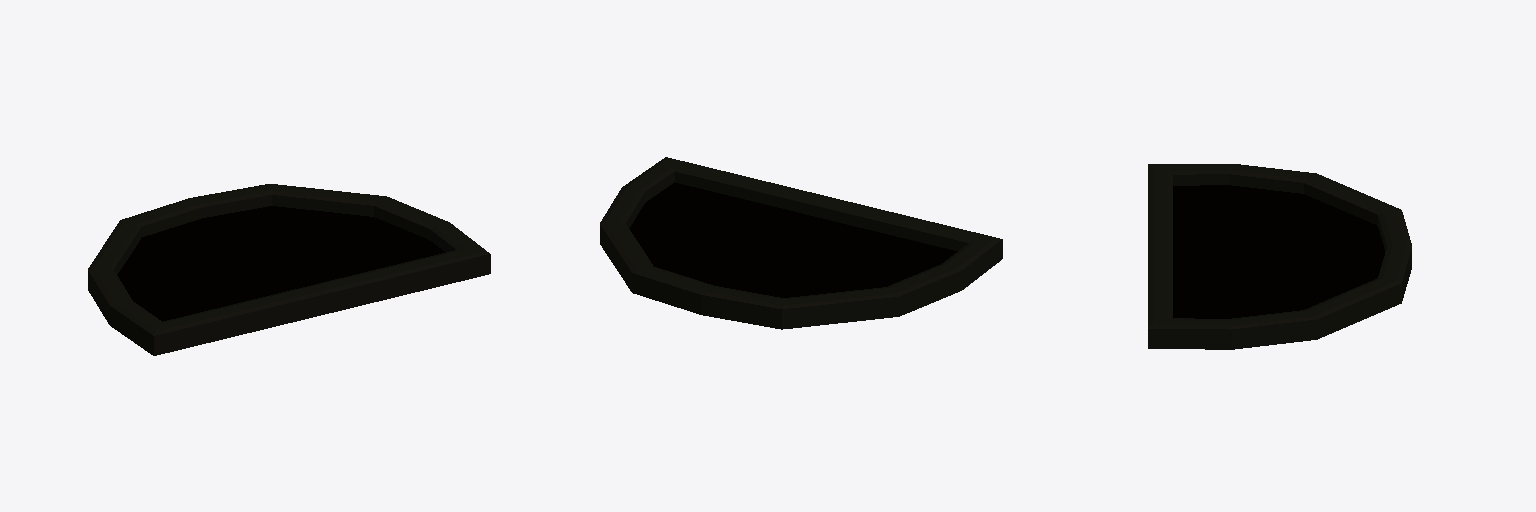
The model's file is FlowerBed6.obj.
The picture shows the model from 3 angles: view 1: azimuth 30°, elevation 25°; view 2: azimuth 150°, elevation 25°; view 3: azimuth 270°, elevation 25°; orthographic projection.
Visible parts, largest first — view 1: FlowerBed6_Cylinder.016; view 2: FlowerBed6_Cylinder.016; view 3: FlowerBed6_Cylinder.016.
Boxes of the visible parts, <box> form: FlowerBed6_Cylinder.016: <box>88,184,490,355</box>; FlowerBed6_Cylinder.016: <box>600,157,1002,329</box>; FlowerBed6_Cylinder.016: <box>1148,164,1411,349</box>.
Size of the model in its own units: 5.16 by 0.3121 by 3.48.